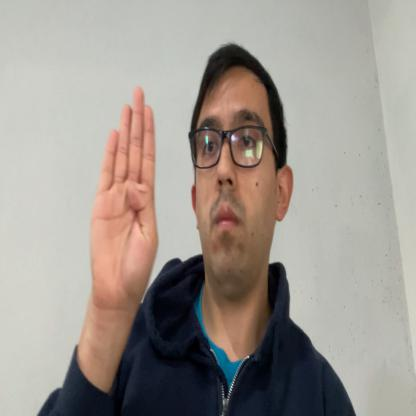B: (90, 85, 159, 318)
